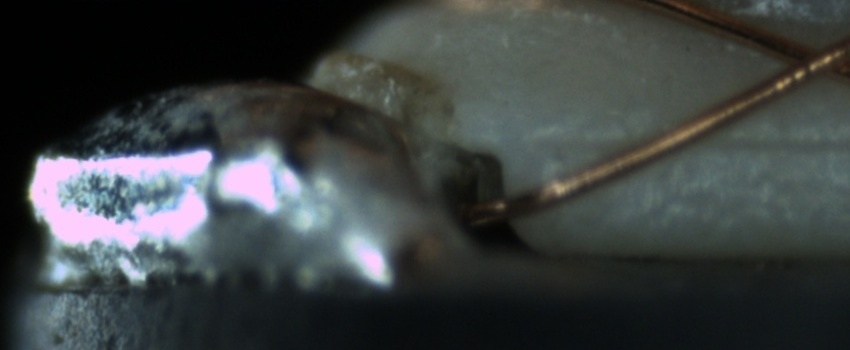CL: (764, 26, 848, 90)
DL: (540, 109, 850, 171)
